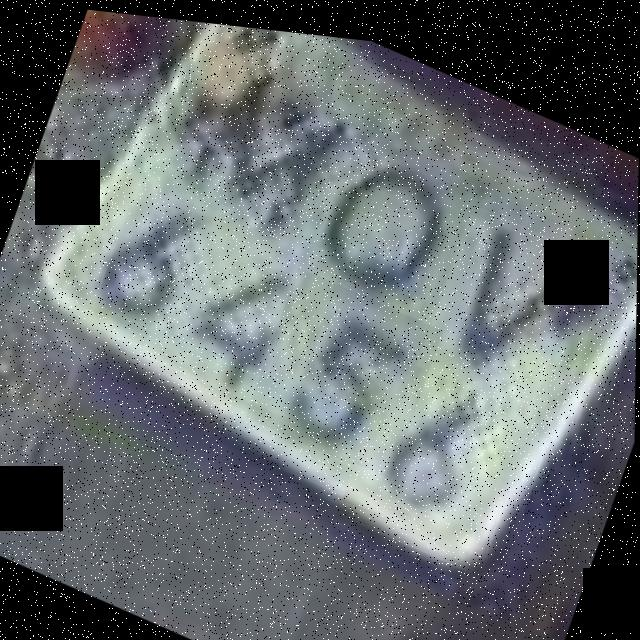4: (141, 185, 345, 417)
5: (246, 256, 444, 476)
6: (57, 136, 251, 357), (342, 322, 527, 550)
N: (190, 45, 384, 273)
O: (281, 102, 492, 330)
V: (417, 189, 588, 408)
